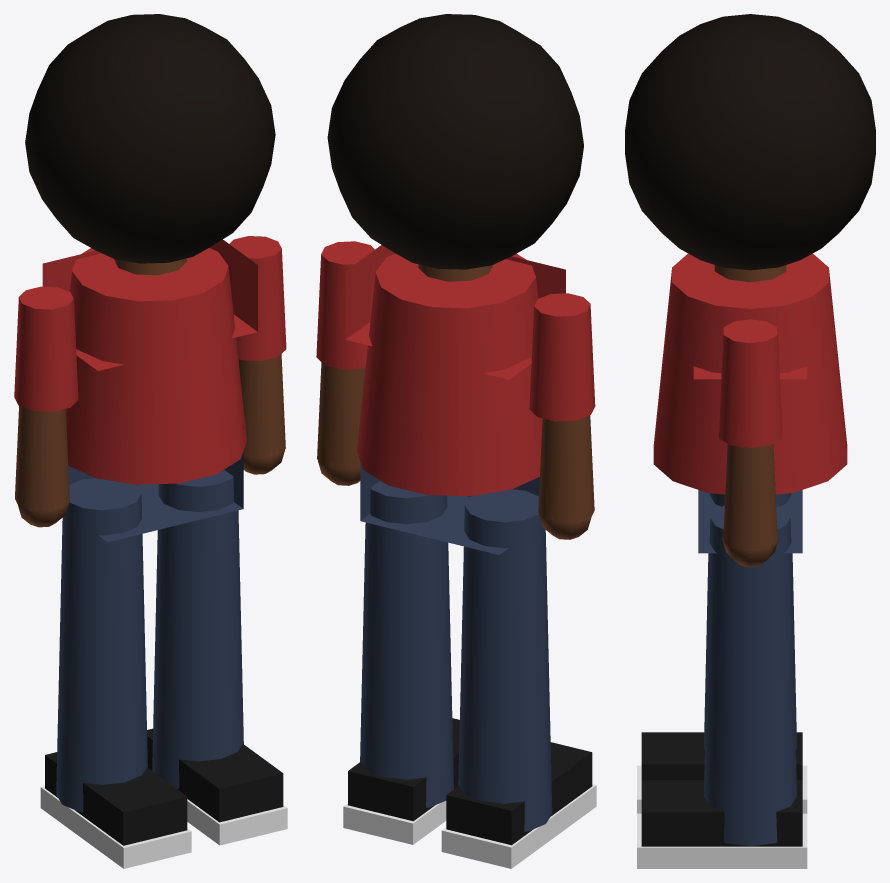
Rendered from player_avatar.glb.
3 renders of one model, left to right at view 1: azimuth 30°, elevation 25°; view 2: azimuth 150°, elevation 25°; view 3: azimuth 270°, elevation 25°, orthographic. The views are drawn at different scales.
Parts seen in each view (by area): view 1: player_avatar; view 2: player_avatar; view 3: player_avatar.
Boxes of the visible parts, x1=… form: player_avatar: x1=14, y1=14, x2=287, y2=868; player_avatar: x1=316, y1=14, x2=596, y2=868; player_avatar: x1=625, y1=14, x2=875, y2=868.
Bounding box in the file's own units: 0.66 × 1.87 × 0.5304.
